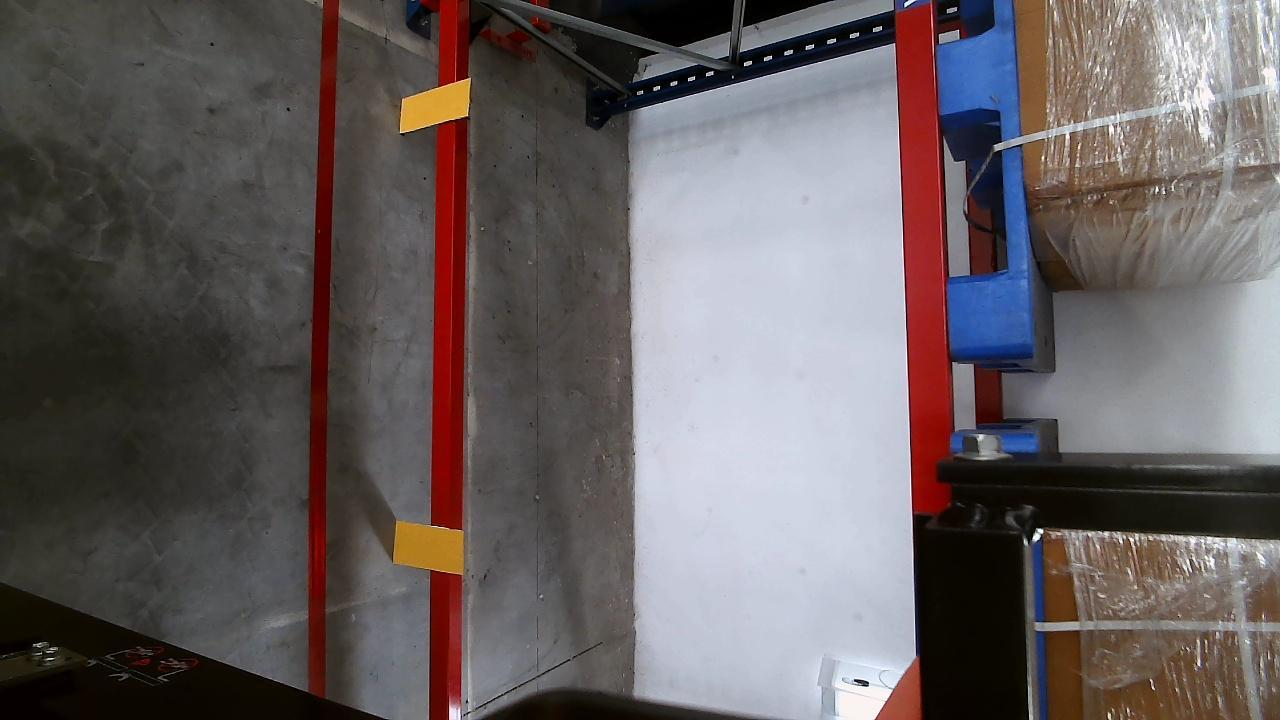h_rack: (894, 1, 956, 513), (432, 1, 462, 720)
orange_strip: (400, 78, 471, 133), (390, 519, 462, 573)
red_line: (306, 0, 341, 694)
small_pallet: (933, 0, 1035, 352)
